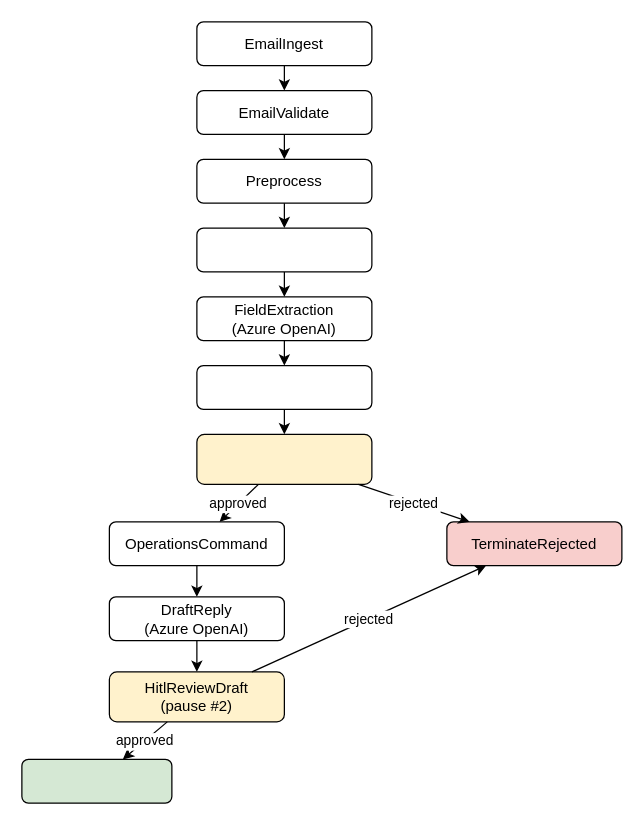
The diagram is 644 pixels wide and 825 high, and some of its shapes have lost their labels. Each missing label, with the centre of its shape:
"ContentSafety" goes at point (284, 249).
"HitlOperationsApproval (pause #1)" goes at point (284, 458).
"SendReply" goes at point (96, 780).
"ValidateNormalize" goes at point (284, 386).
